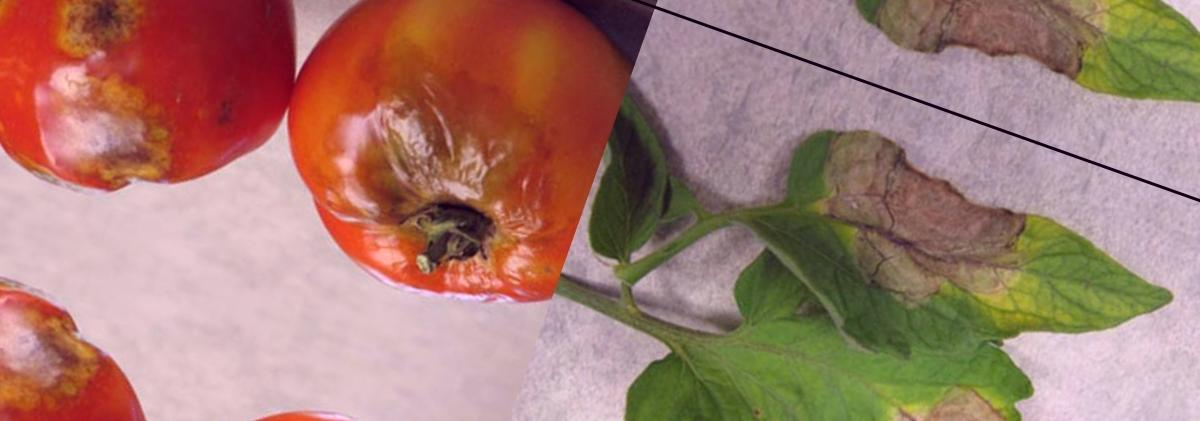Tomato leaf late blight: (693, 62, 1200, 421), (578, 220, 1143, 421)
